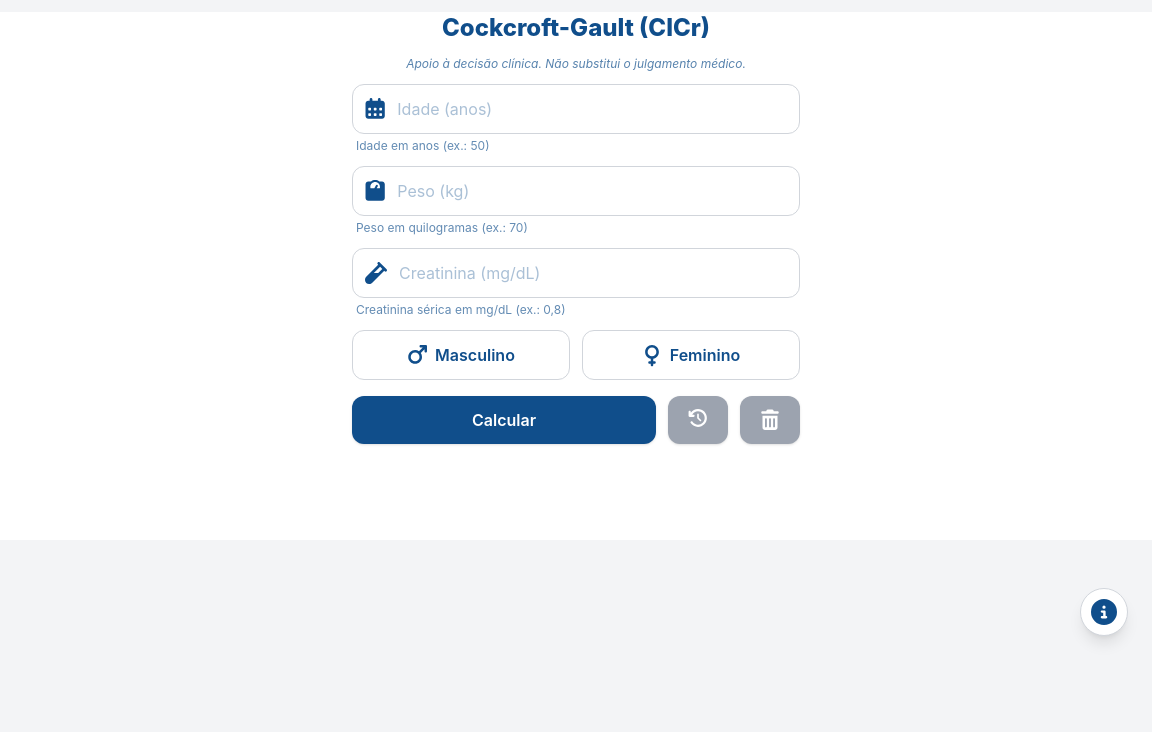
Cockcroft-Gault (interface) › calcula, mostra o resultado e guarda ultimoClCr
The width and height of the screenshot is (1152, 732).
In the field with placeholder "Idade (anos)": (592, 109) x1=397 y1=85 x2=787 y2=133, type "50"
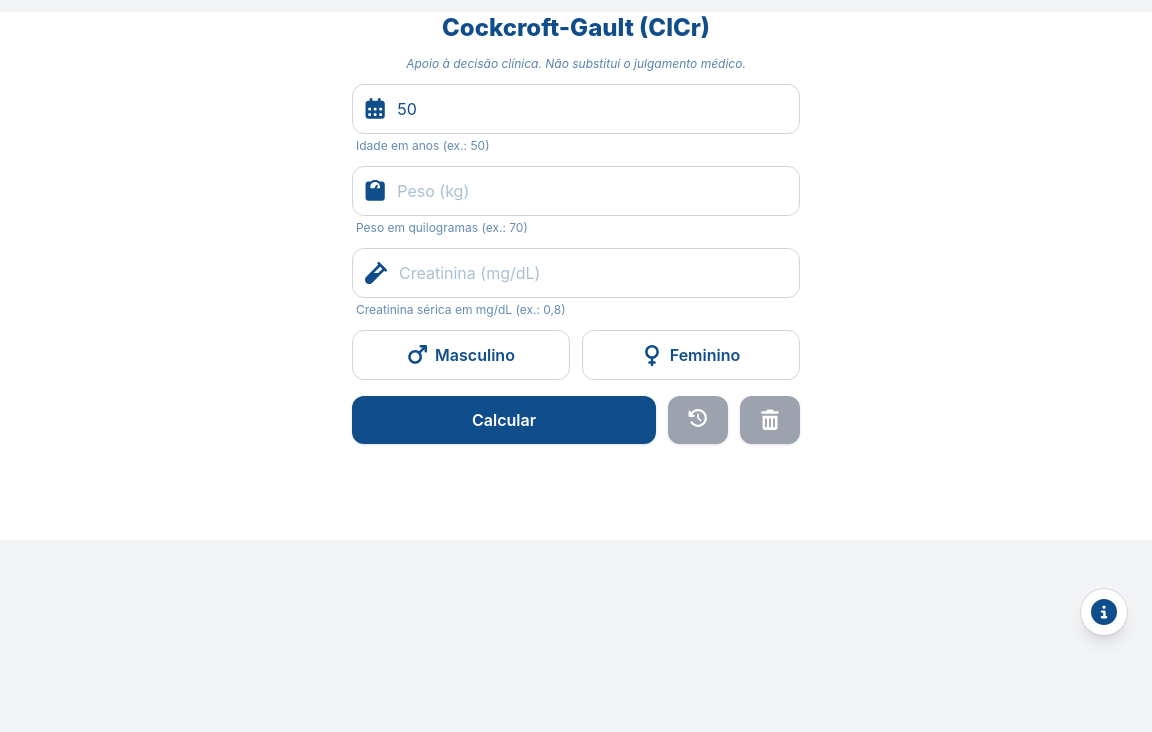
In the field with placeholder "Peso (kg)": (592, 191) x1=397 y1=167 x2=787 y2=215, type "70"
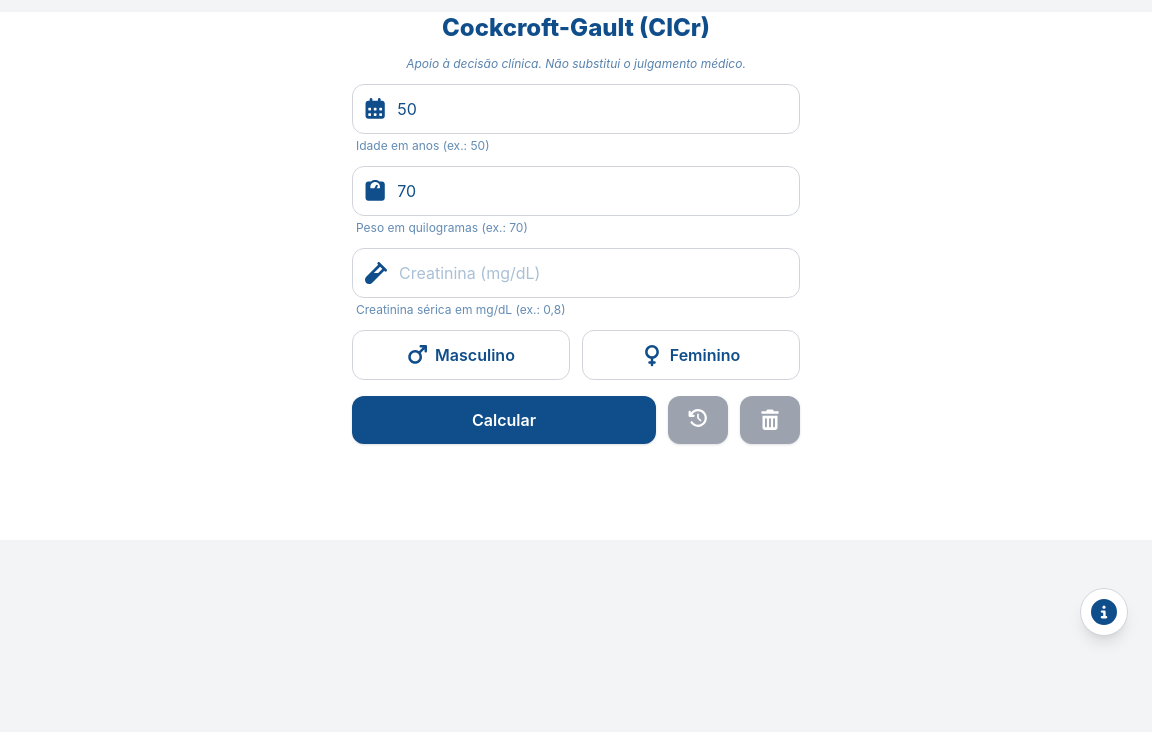
In the field with placeholder "Creatinina (mg/dL)": (593, 273) x1=399 y1=249 x2=787 y2=297, type "1,0"
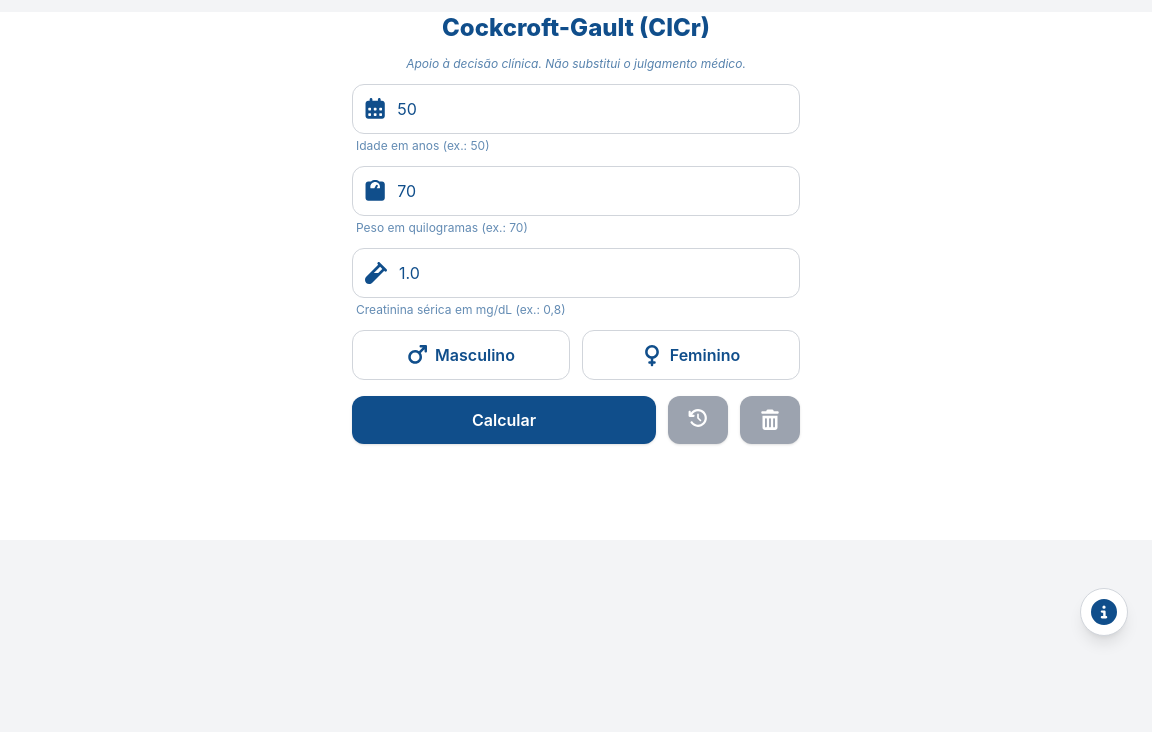
Click the button "Masculino": click(461, 355) x1=352 y1=330 x2=570 y2=380
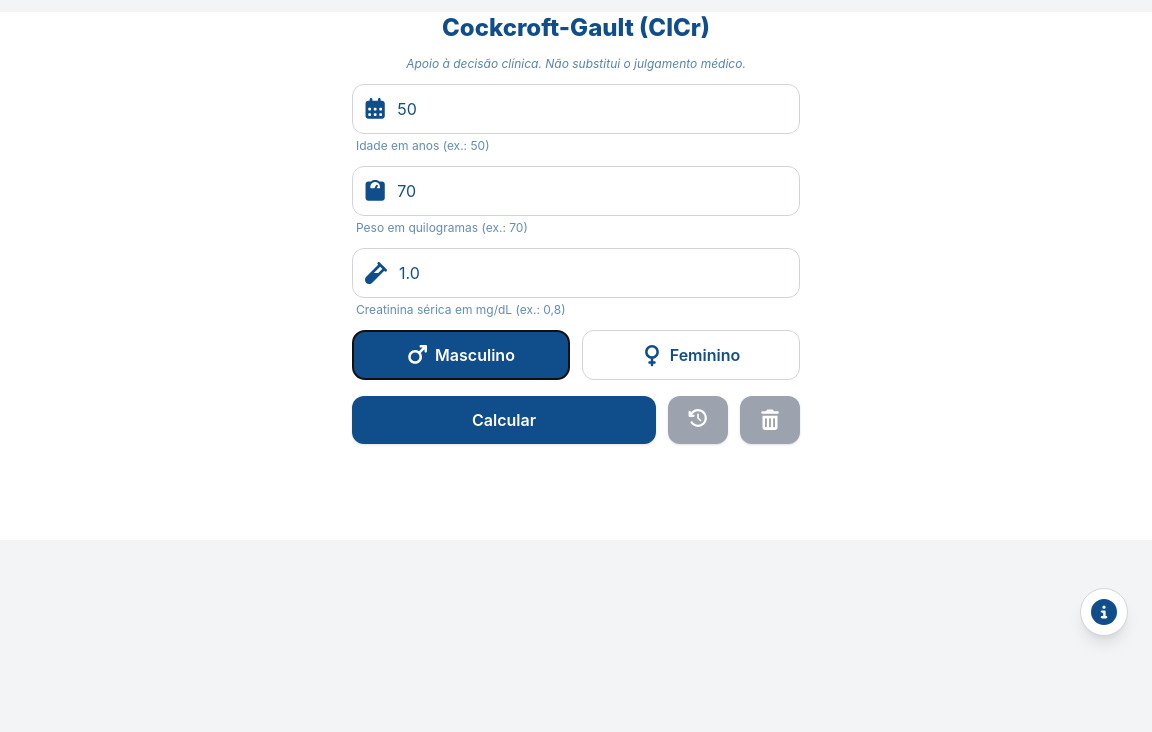
Click the button "Calcular": click(504, 420) x1=352 y1=396 x2=656 y2=444
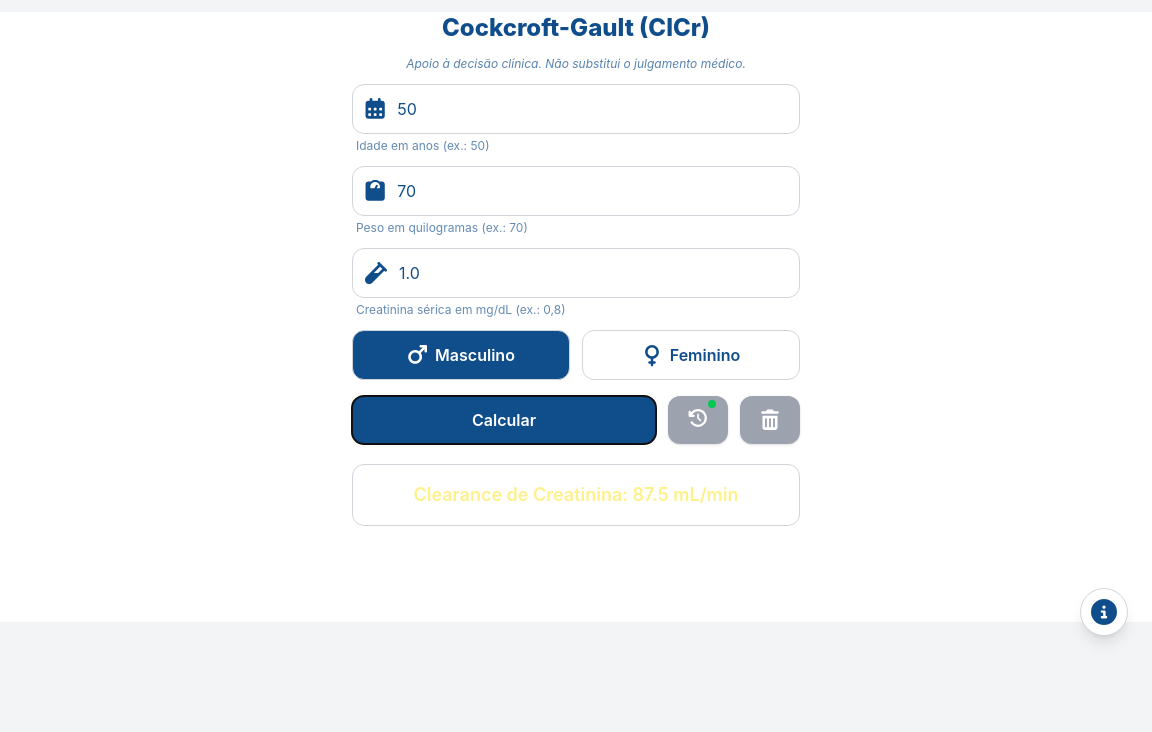
Expected: the message reads "Clearance de Creatinina: 87.5 mL/min", x1=414 y1=484 x2=738 y2=505
